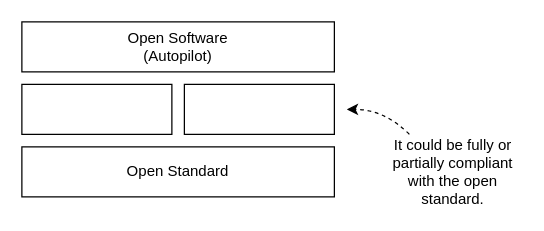
The diagram is 544 pixels wide and 231 high, and some of its shapes have lost their labels. The shapes that lost their labels are listed below. From the top down, each one's centre as x and y in pixels, then its label:
At (96,108): "Open Hardware".
At (258,108): "Closed Hardware".
